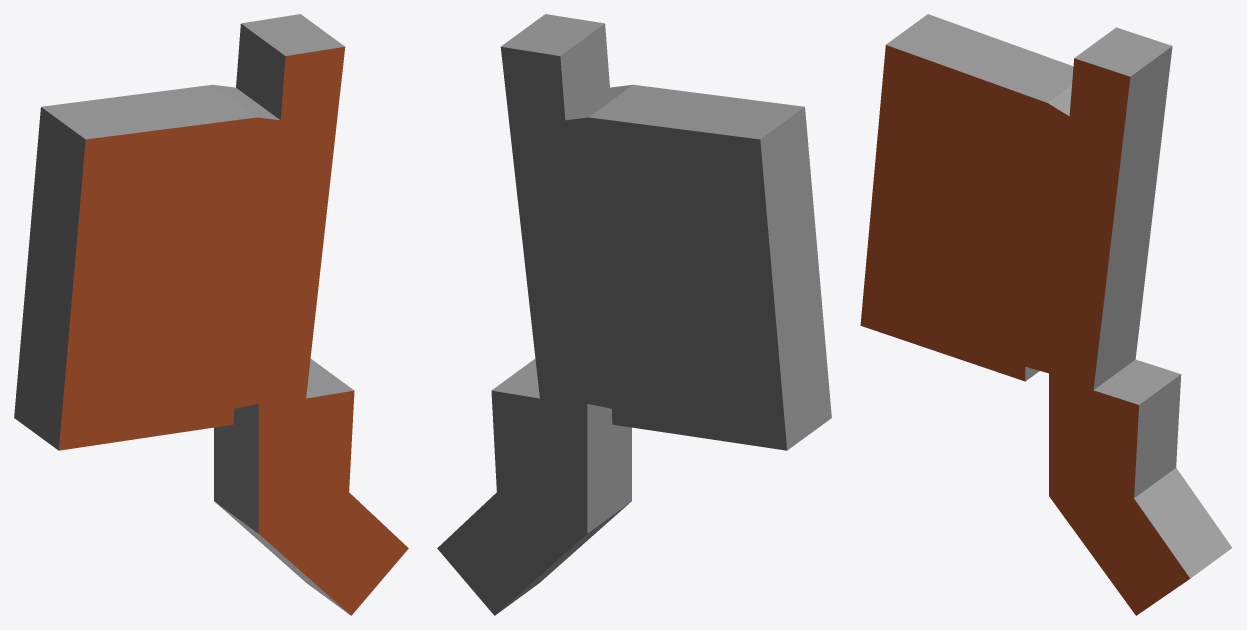
File: construction_6635_assumed_A_Casa_h6m.obj
3 views of the same model, side by side, from view 1: azimuth 30°, elevation 25°; view 2: azimuth 150°, elevation 25°; view 3: azimuth 330°, elevation 25° (orthographic). The views are drawn at different scales.
Parts seen in each view (by area): view 1: construction_6635_assumed_A_Casa; view 2: construction_6635_assumed_A_Casa; view 3: construction_6635_assumed_A_Casa.
Boxes of the visible parts, x1,y1,x2,y2 form: construction_6635_assumed_A_Casa: [14, 14, 408, 615]; construction_6635_assumed_A_Casa: [437, 14, 831, 615]; construction_6635_assumed_A_Casa: [860, 14, 1232, 615].
Size of the model in its own units: 27.13 by 42.65 by 6.
